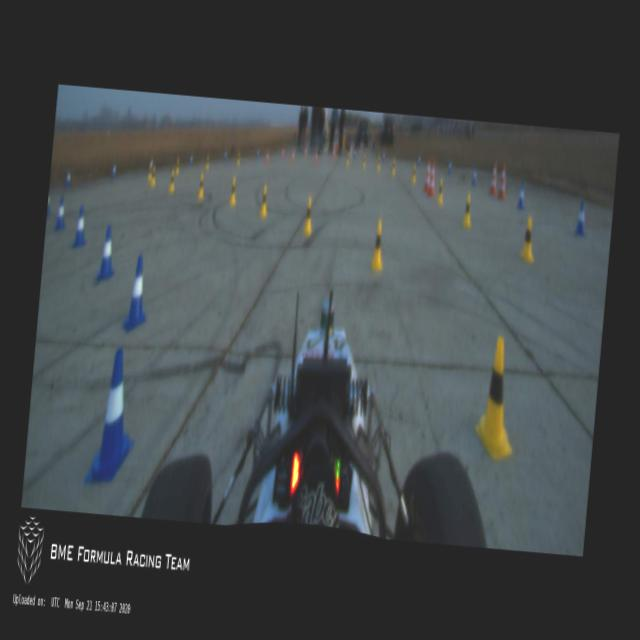blue_cone: (84, 345, 140, 485), (121, 254, 151, 334), (95, 224, 118, 281), (72, 206, 89, 247), (54, 193, 68, 230), (574, 198, 588, 235), (516, 181, 524, 208), (46, 189, 53, 216), (65, 168, 70, 186), (472, 167, 476, 186), (448, 159, 452, 174), (352, 148, 356, 158), (112, 165, 115, 178), (223, 148, 226, 160), (382, 150, 385, 160), (189, 152, 192, 162), (255, 150, 258, 158), (418, 153, 420, 165)
large_orange_cone: (498, 162, 508, 198), (489, 160, 498, 194), (428, 158, 436, 194), (424, 156, 431, 192)
orange_cone: (264, 150, 268, 164), (290, 150, 294, 163), (280, 146, 284, 158), (314, 151, 317, 163), (332, 149, 335, 158), (304, 146, 306, 158)
yellow_cone: (472, 334, 521, 459), (369, 218, 386, 270), (519, 216, 536, 262), (301, 194, 314, 233), (462, 192, 472, 228), (259, 184, 269, 217), (228, 178, 238, 205), (198, 173, 205, 197), (168, 168, 175, 192), (438, 177, 444, 203), (150, 164, 156, 185), (146, 162, 152, 181), (390, 157, 396, 176), (411, 165, 416, 182), (376, 154, 381, 170), (175, 157, 179, 173), (205, 153, 209, 169), (236, 150, 240, 166), (362, 153, 366, 168), (346, 152, 348, 164)
